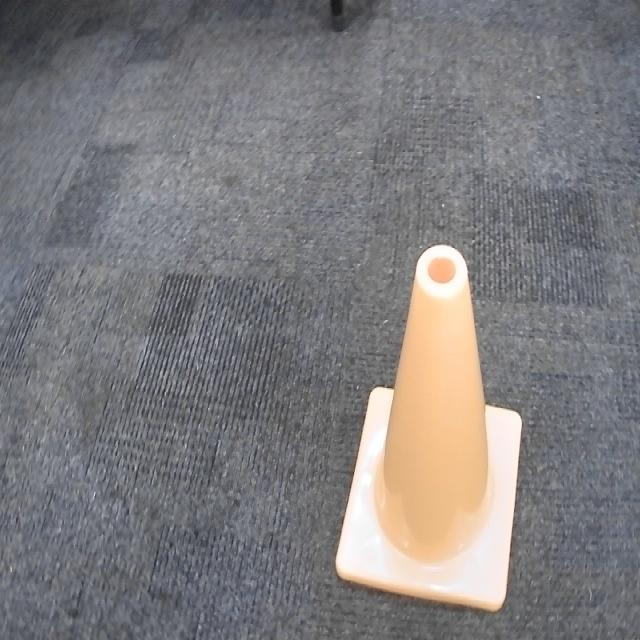cone: (334, 241, 524, 613)
